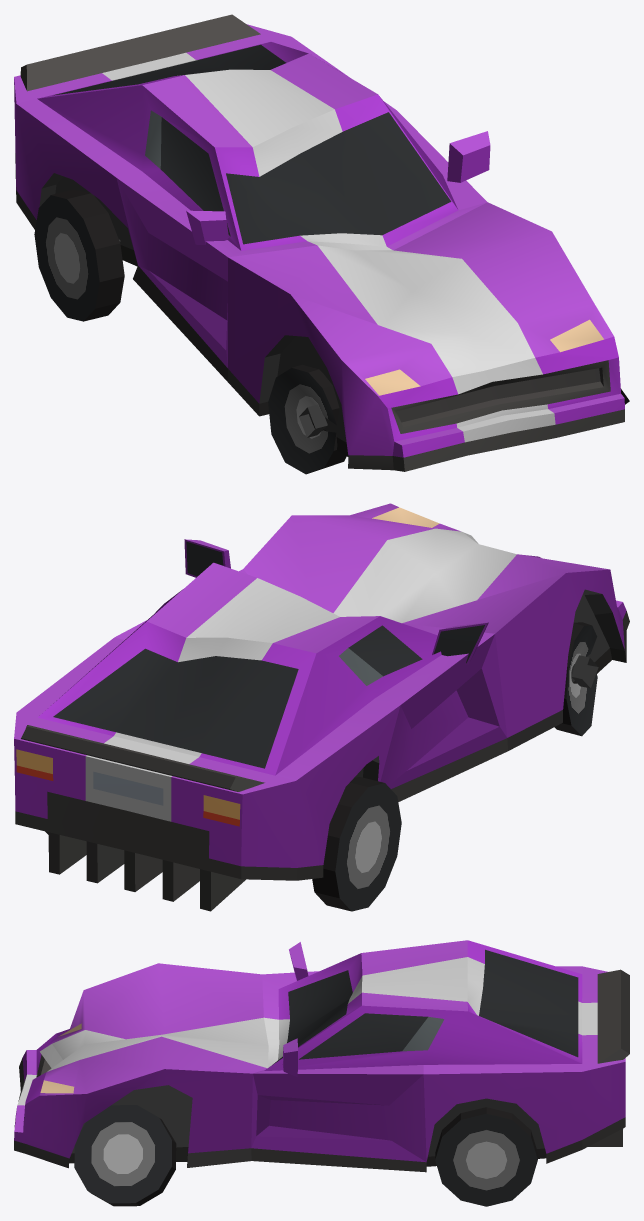
Rendered from WreckedCar1.fbx.
3 views of the same model, one above another, from view 1: azimuth 30°, elevation 25°; view 2: azimuth 150°, elevation 25°; view 3: azimuth 270°, elevation 25° (orthographic). The views are drawn at different scales.
Parts seen in each view (by area): view 1: SR_Veh_MuscleSports_Purple, SR_Veh_MuscleSports_Wheel_RR, SR_Veh_MuscleSports_Wheel_FR; view 2: SR_Veh_MuscleSports_Purple, SR_Veh_MuscleSports_Wheel_RR, SR_Veh_MuscleSports_Wheel_FR; view 3: SR_Veh_MuscleSports_Purple, SR_Veh_MuscleSports_Wheel_FL, SR_Veh_MuscleSports_Wheel_RL.
Part boxes in pixels (box(x1,y1,x2,y2)): SR_Veh_MuscleSports_Purple: box(14, 14, 624, 471); SR_Veh_MuscleSports_Wheel_RR: box(34, 189, 124, 321); SR_Veh_MuscleSports_Wheel_FR: box(268, 364, 346, 474); SR_Veh_MuscleSports_Purple: box(14, 503, 629, 911); SR_Veh_MuscleSports_Wheel_RR: box(312, 777, 401, 911); SR_Veh_MuscleSports_Wheel_FR: box(554, 622, 597, 736); SR_Veh_MuscleSports_Purple: box(14, 940, 629, 1172); SR_Veh_MuscleSports_Wheel_FL: box(74, 1105, 176, 1206); SR_Veh_MuscleSports_Wheel_RL: box(435, 1107, 537, 1206).
Bounding box in the file's own units: 359 × 238 × 748.
1 material, 1 textured.
